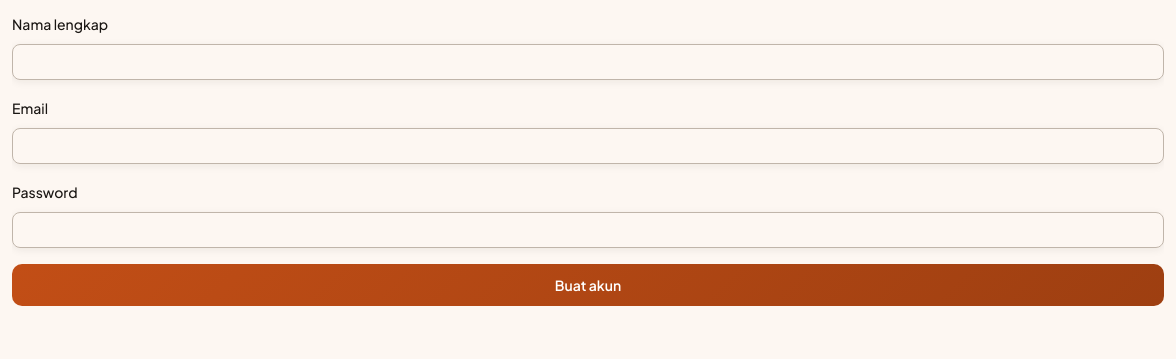
Test case: with email links off › says the switches disagree instead of waiting on an email
This screenshot has width=1176, height=359.
Type "Rani Putri" into the field with id "fullName". click: (588, 62)
box: [12,44,1164,80]
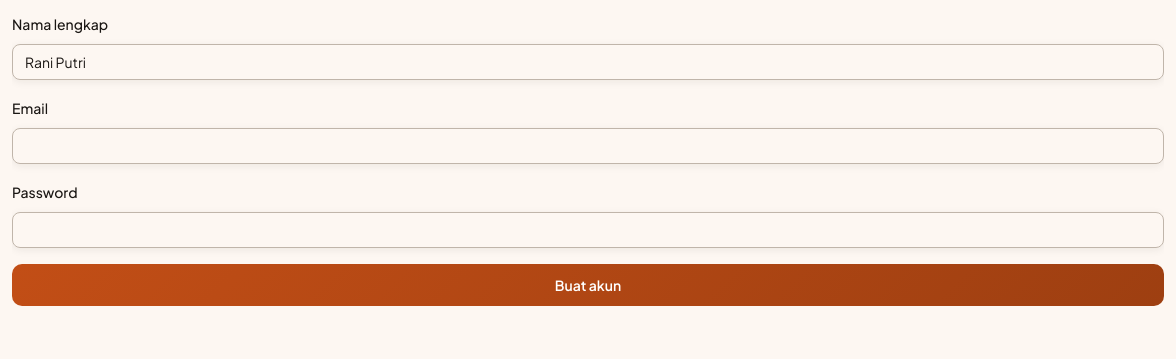
Type "rani@osis.test" into the field with id "email". click: (588, 146)
box: [12,128,1164,164]
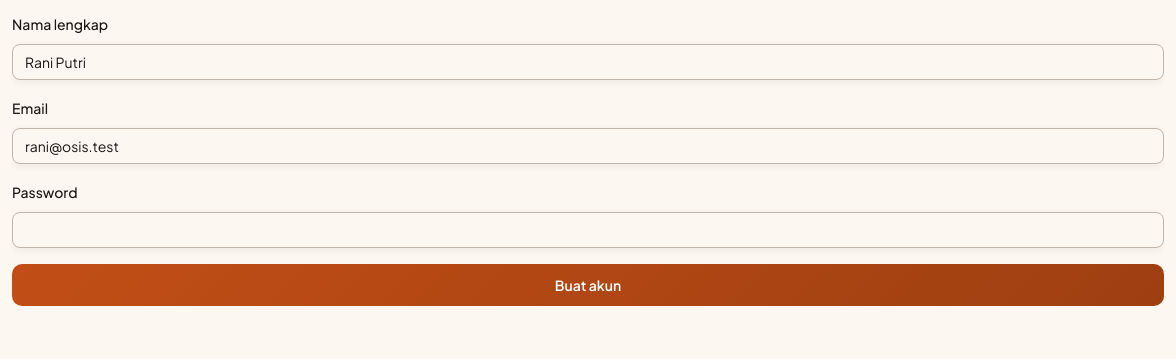
Type "Password-Contoh-1" into the password field labelled "Password". click: (588, 230)
box: [12,212,1164,248]
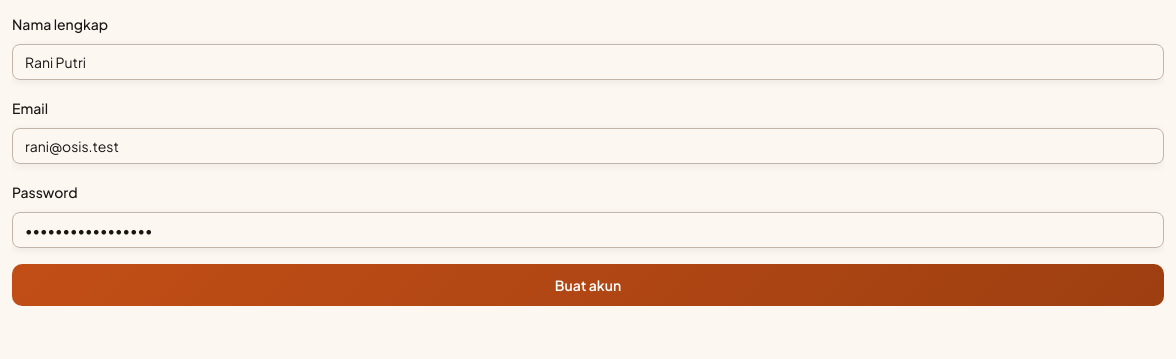
Click the button "Buat akun". click: (588, 285)
box: [12,264,1164,306]
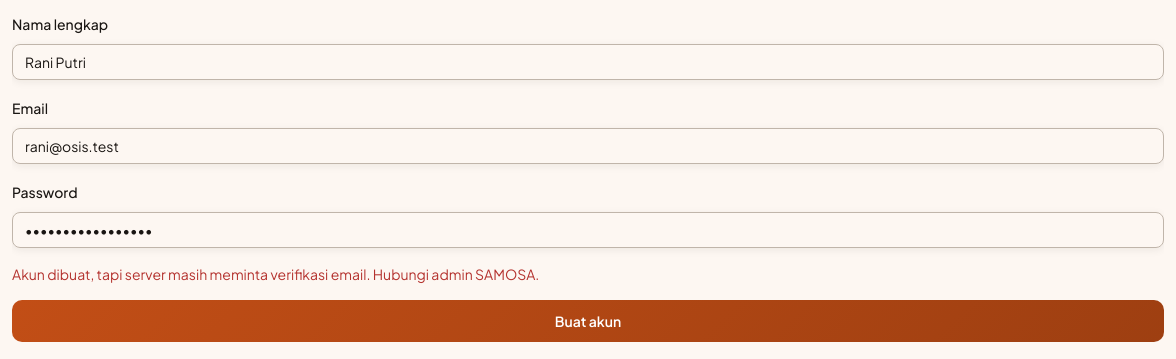
Expected: the text "Akun dibuat, tapi server masih meminta verifikasi email. Hubungi admin SAMOSA." is shown, [12,265,539,283]
